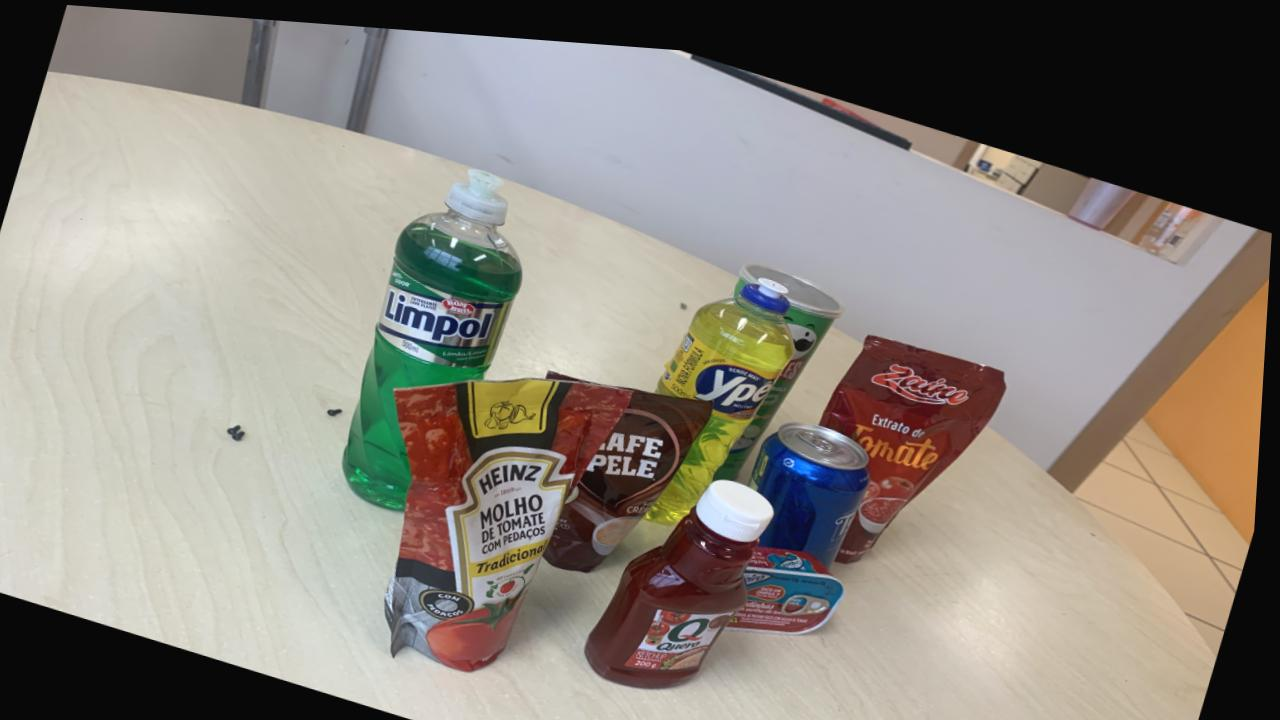Coffee-Pantry_Items: (549, 379, 716, 562)
Detergent-Cleanup_Items: (347, 161, 525, 503), (653, 265, 797, 513)
Ketchup-Pantry_Items: (591, 467, 779, 677)
Pringles-Snacks: (719, 251, 845, 468)
Tomato_Sauce-Pantry_Items: (391, 369, 637, 663), (823, 321, 1009, 549), (636, 480, 639, 481)
Tonic-Drinks: (754, 409, 874, 552)
Tuna_Can-Pantry_Items: (734, 533, 851, 621)
